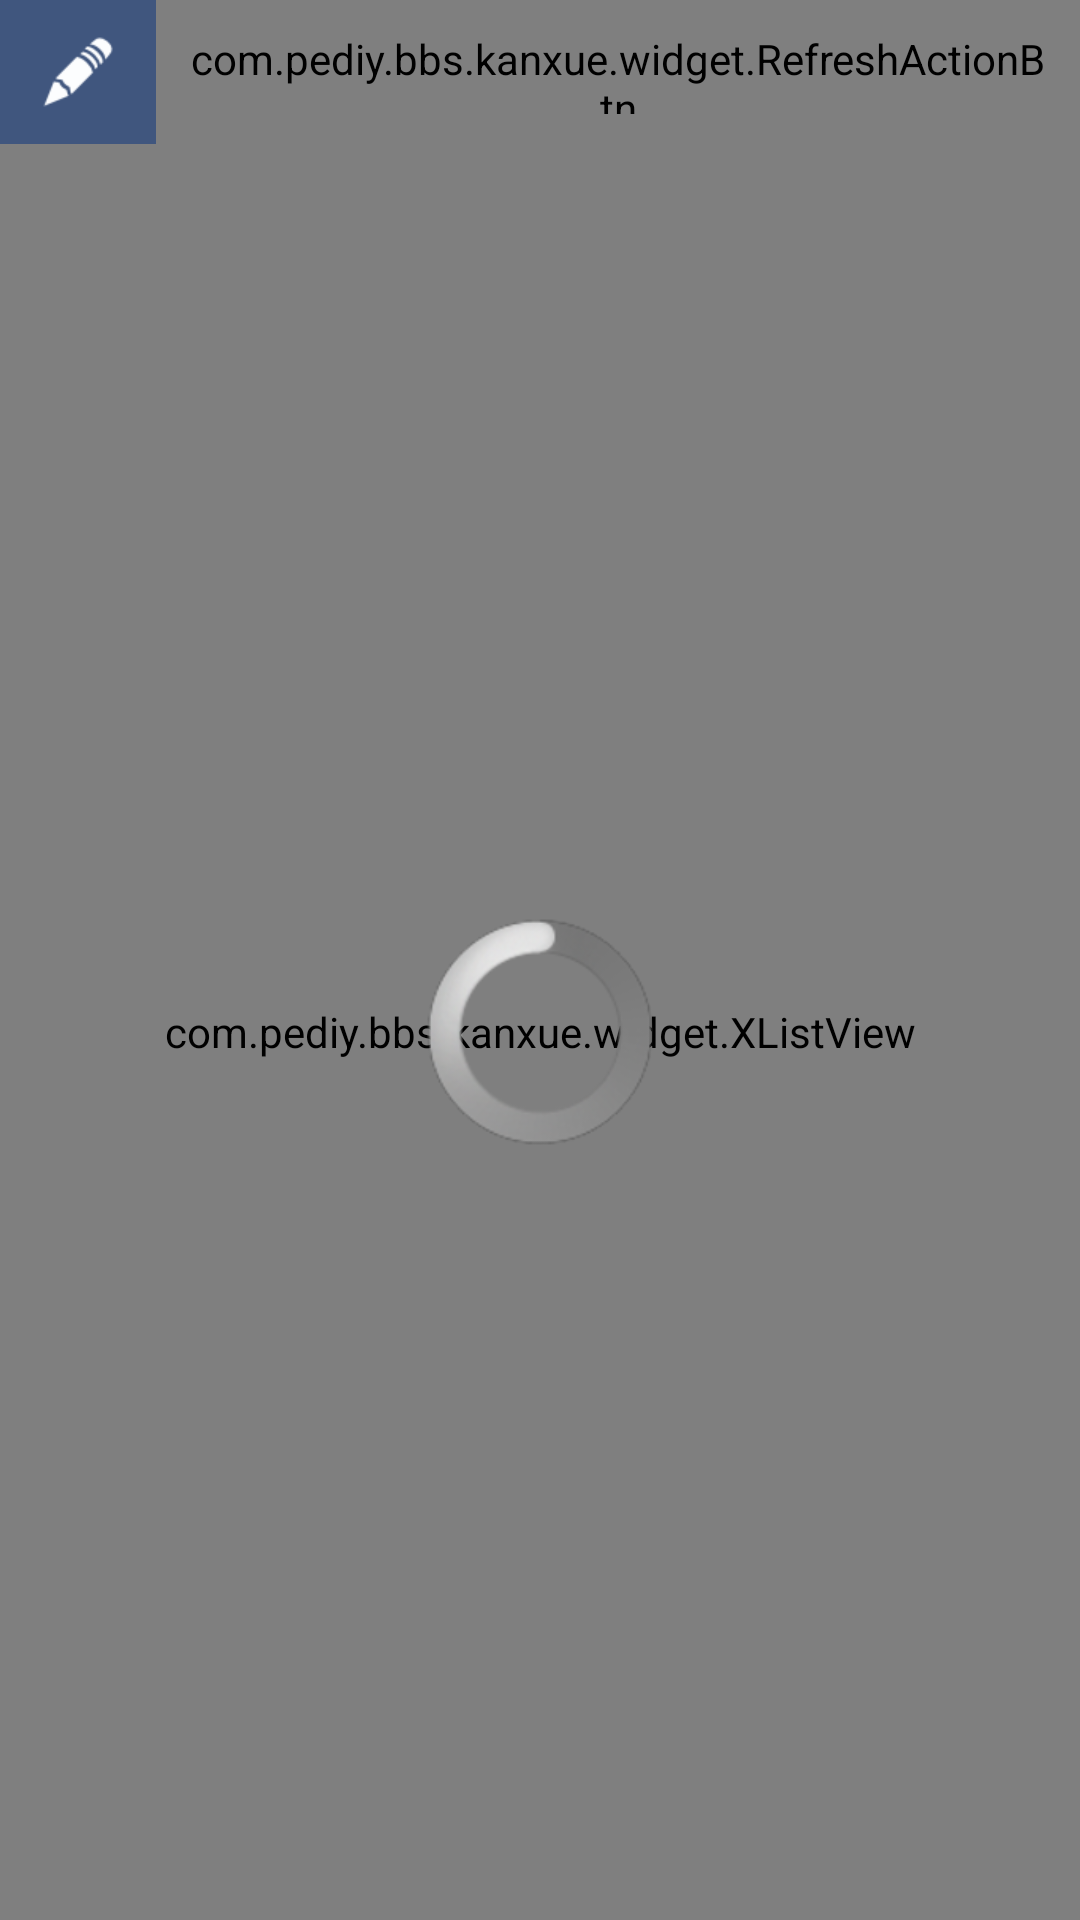

Screen size 1080*1920. Icon name, then its center in pixels as point (x, y):
edit: point (78, 72)
